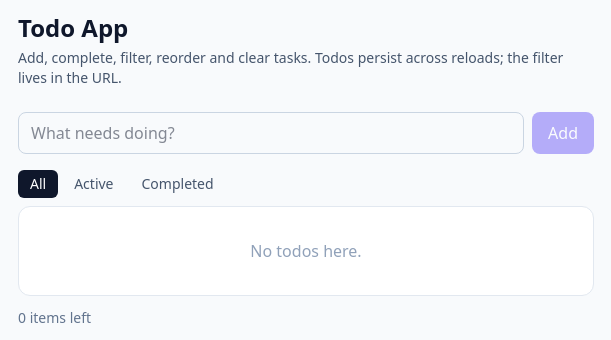
Test: TodoApp › edits a todo title
Type "Old title" into the field named "New todo" at x=271, y=133, box [18,112,524,154]
Then press Enter
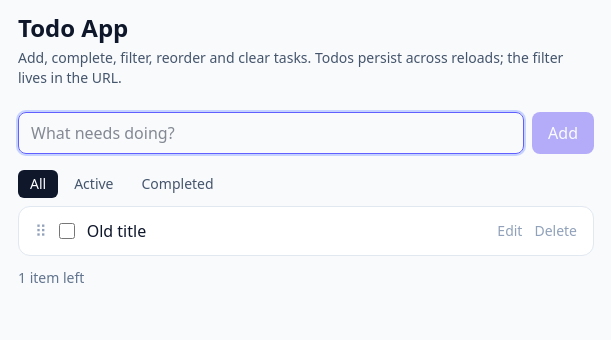
Click the button "Edit" at x=510, y=231, box [497,221,522,241]
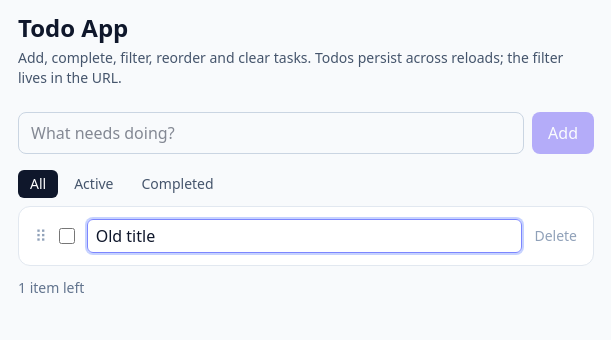
Replace the text in the field named "Edit \"Old title\"" with "New title" at x=305, y=236, box [87,219,522,253]
Then press Enter
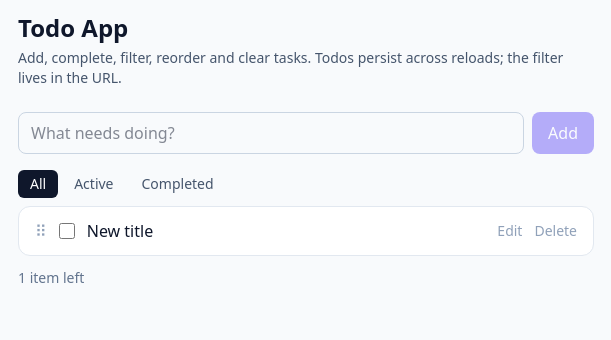
Check: the button "Old title" is not shown
Check: the button "New title" is shown, box [87,219,485,243]
